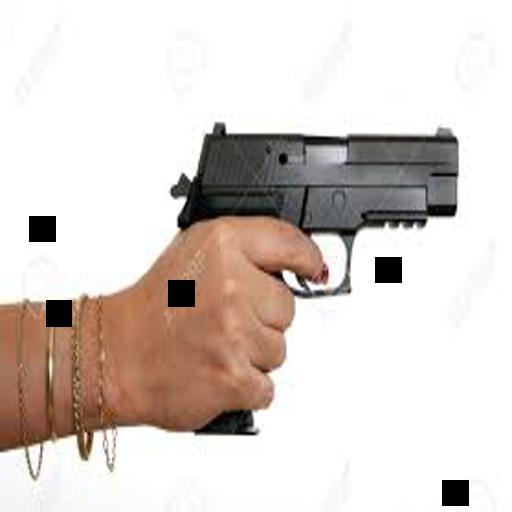Handgun: (173, 118, 466, 437)
